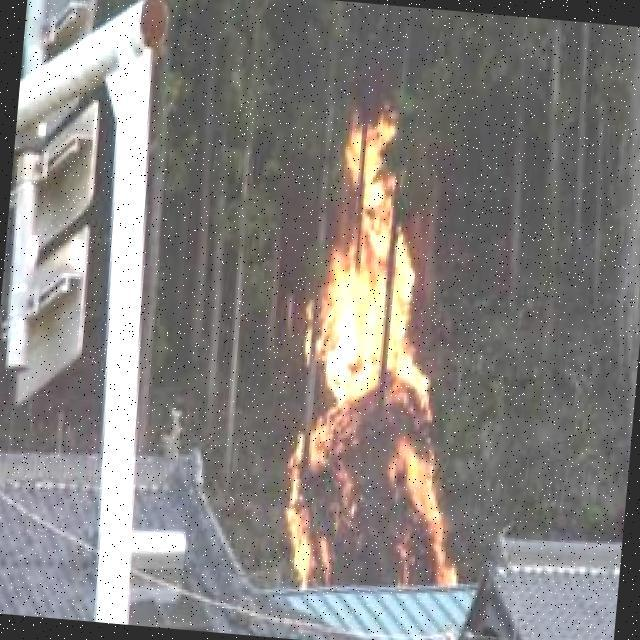Fire: (276, 106, 490, 594)
